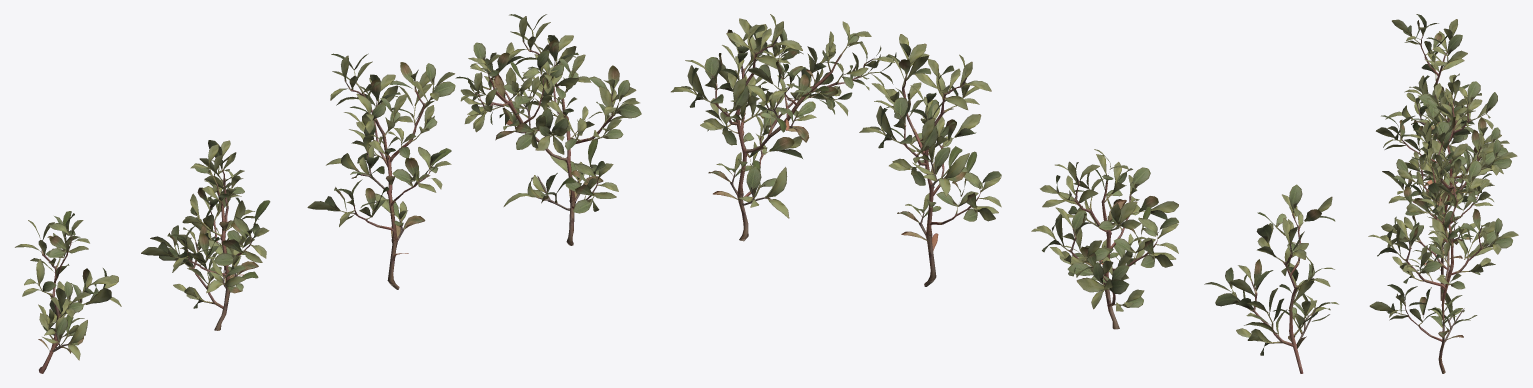
File: shrub_c.glb
The picture shows the model from 3 angles, left to right: view 1: azimuth 30°, elevation 25°; view 2: azimuth 150°, elevation 25°; view 3: azimuth 270°, elevation 25°; orthographic projection. The views are drawn at different scales.
Visible parts, largest first — view 1: shrub_04; view 2: shrub_04; view 3: shrub_04.
Boxes of the visible parts, x1,y1,x2,y2 form: shrub_04: (15,14,641,373); shrub_04: (671,14,1338,373); shrub_04: (1368,14,1518,373).
Bounding box in the file's own units: 0.5837 × 0.2192 × 0.1461.
1 material, 1 textured.
